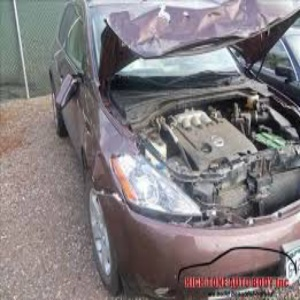bonnet: (101, 1, 300, 76)
